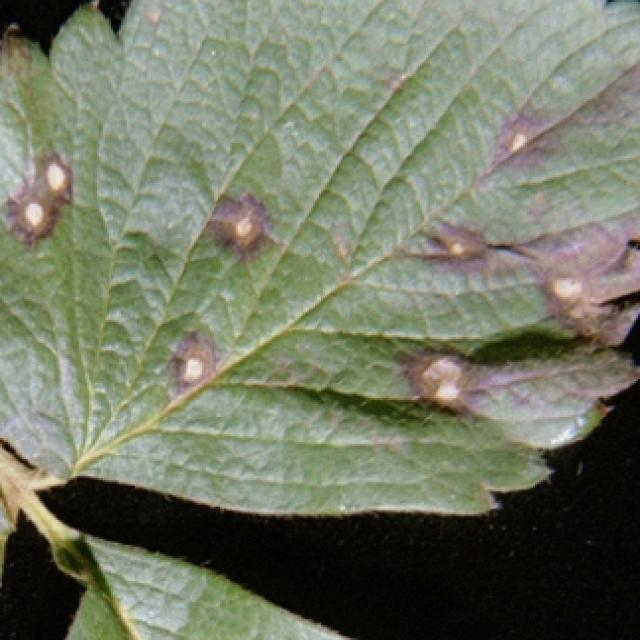Leaf Spot: (0, 0, 640, 519)
